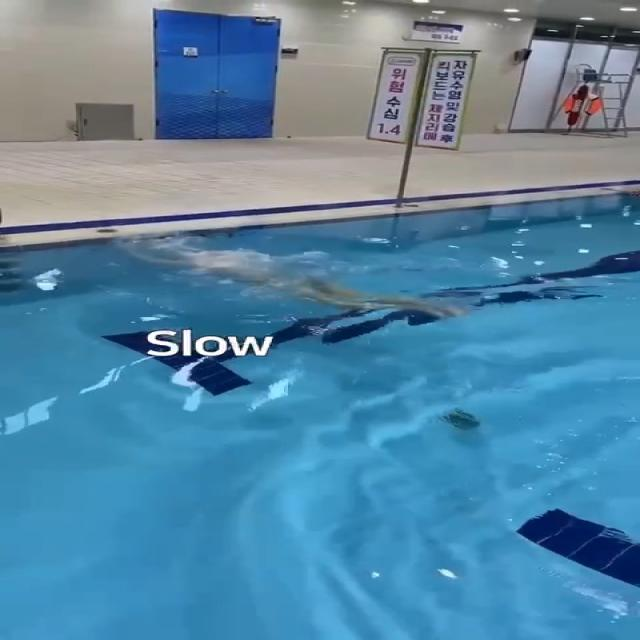Swimming: (97, 221, 506, 319)
